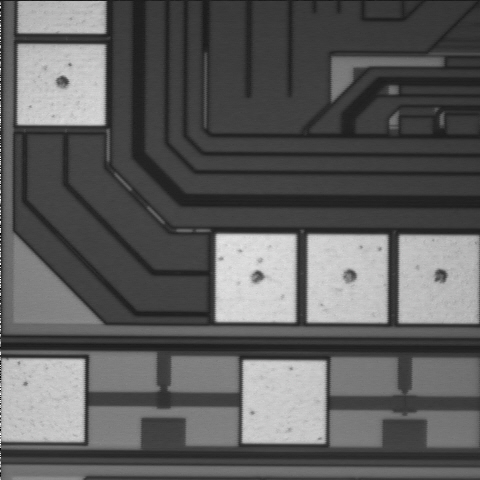pad: (216, 234, 296, 322), (18, 45, 105, 125), (308, 235, 387, 322), (399, 236, 478, 323), (2, 359, 84, 442), (243, 361, 325, 443)
